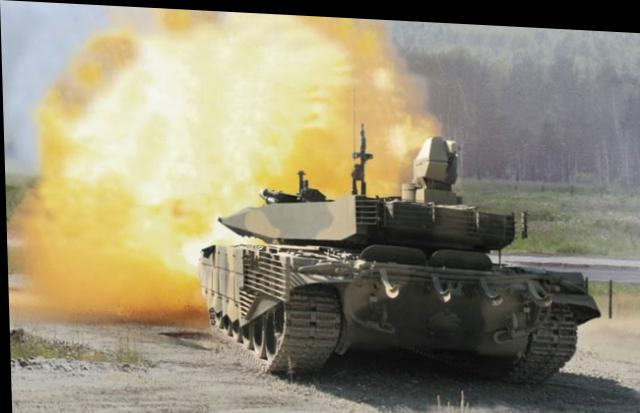tank: (193, 124, 588, 386)
